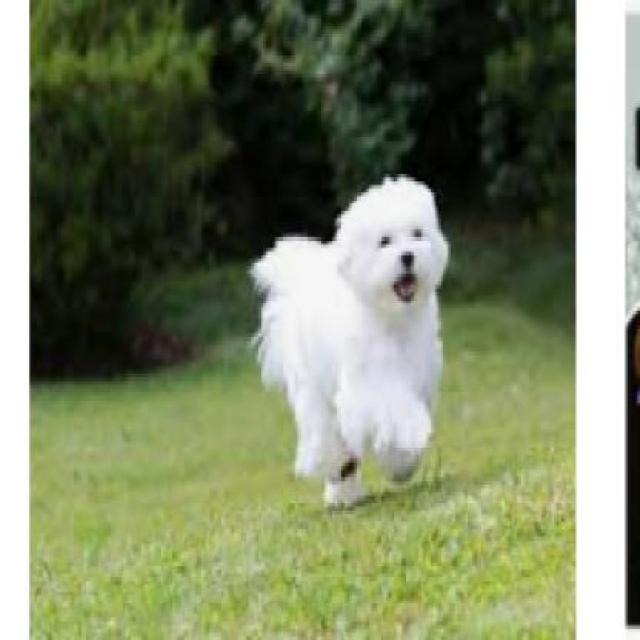Dog: (240, 164, 455, 518)
